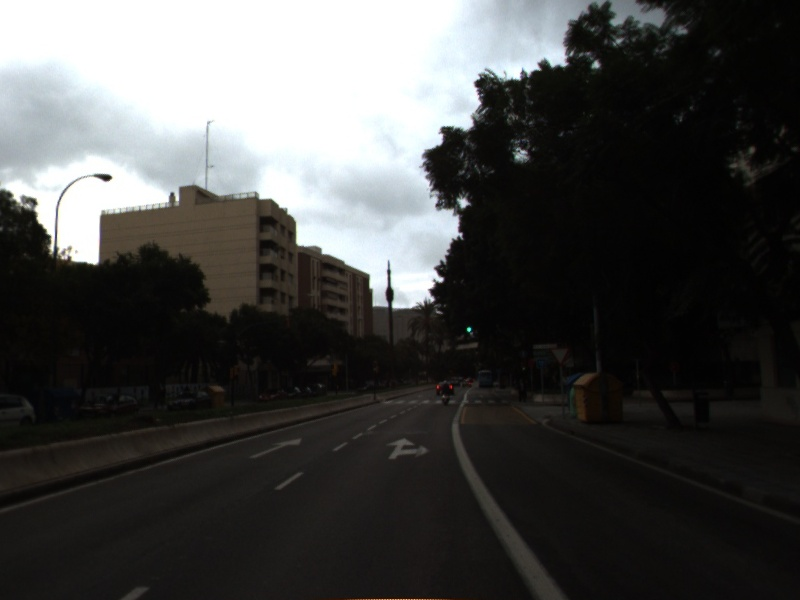STRAIGHT: (247, 436, 304, 461)
STRAIGHT_RIGHT: (384, 435, 433, 461)
